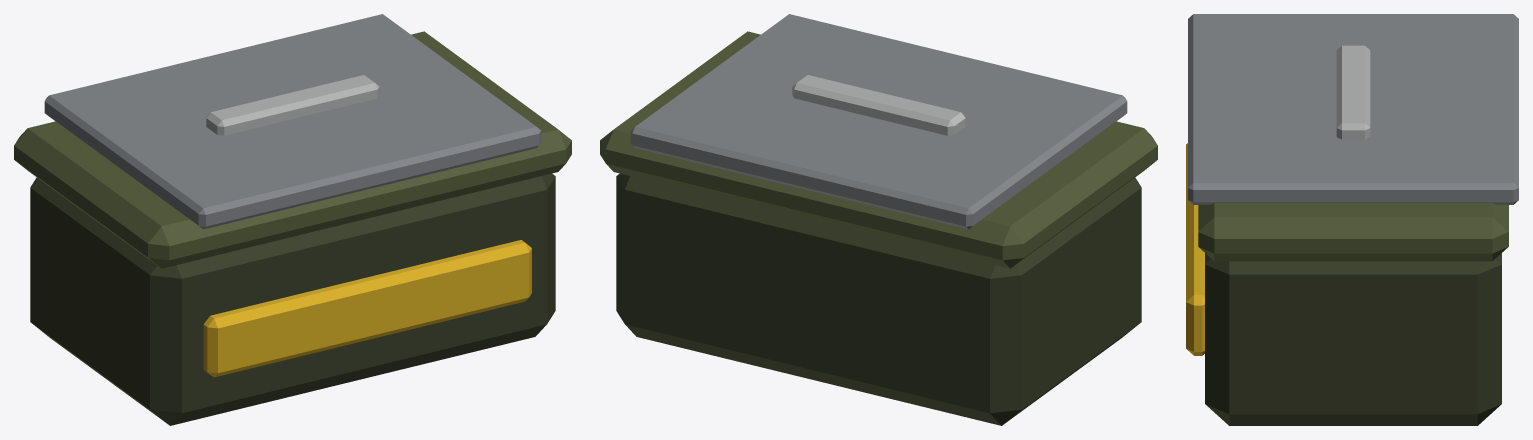
Rendered from ammo_box_rifle.fbx.
3 renders of one model, left to right at view 1: azimuth 30°, elevation 25°; view 2: azimuth 150°, elevation 25°; view 3: azimuth 270°, elevation 25°, orthographic. The views are drawn at different scales.
Visible parts, largest first — view 1: ammo_box_rifle; view 2: ammo_box_rifle; view 3: ammo_box_rifle.
Boxes of the visible parts, x1=… form: ammo_box_rifle: x1=14, y1=14, x2=571, y2=425; ammo_box_rifle: x1=600, y1=14, x2=1157, y2=425; ammo_box_rifle: x1=1186, y1=14, x2=1518, y2=425.
Bounding box in the file's own units: 0.376 × 0.2035 × 0.2465.
